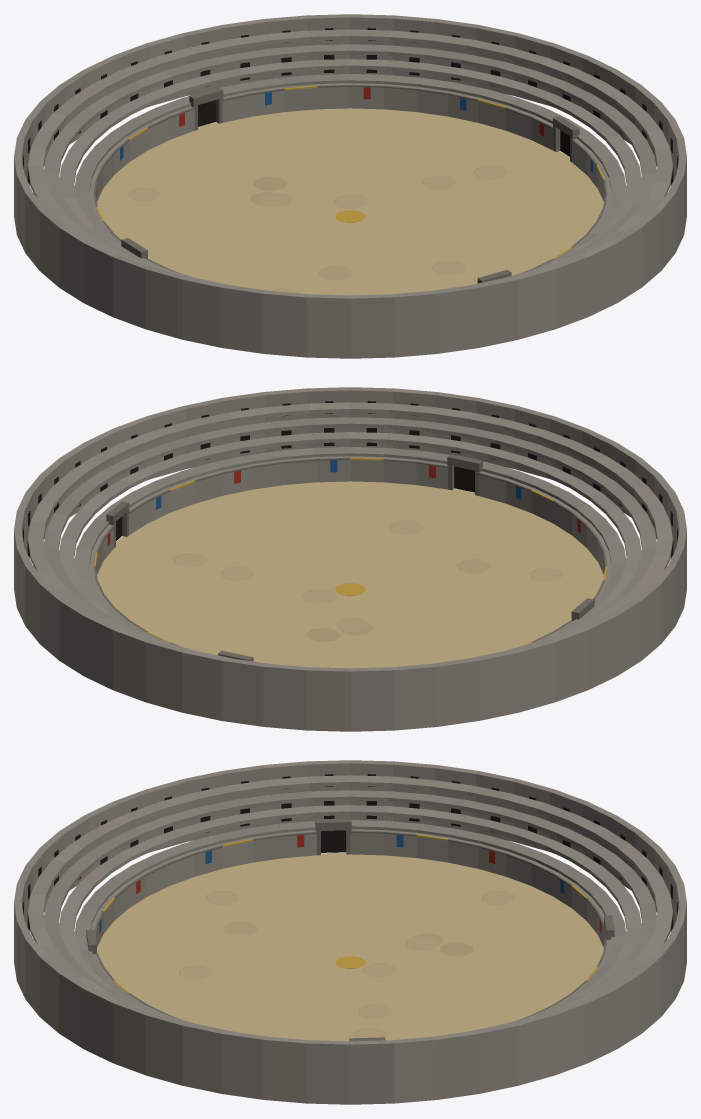
File: arena.glb
3 renders of one model, top to bottom at view 1: azimuth 30°, elevation 25°; view 2: azimuth 150°, elevation 25°; view 3: azimuth 270°, elevation 25°, orthographic.
Visible parts, largest first — view 1: arena; view 2: arena; view 3: arena.
Part boxes in pixels (left/top/right/bottom): arena: left=14, top=14, right=686, bottom=358; arena: left=14, top=387, right=686, bottom=731; arena: left=14, top=760, right=686, bottom=1104.
Size of what is drawn, in the model's own units: 132 by 13.5 by 132.
